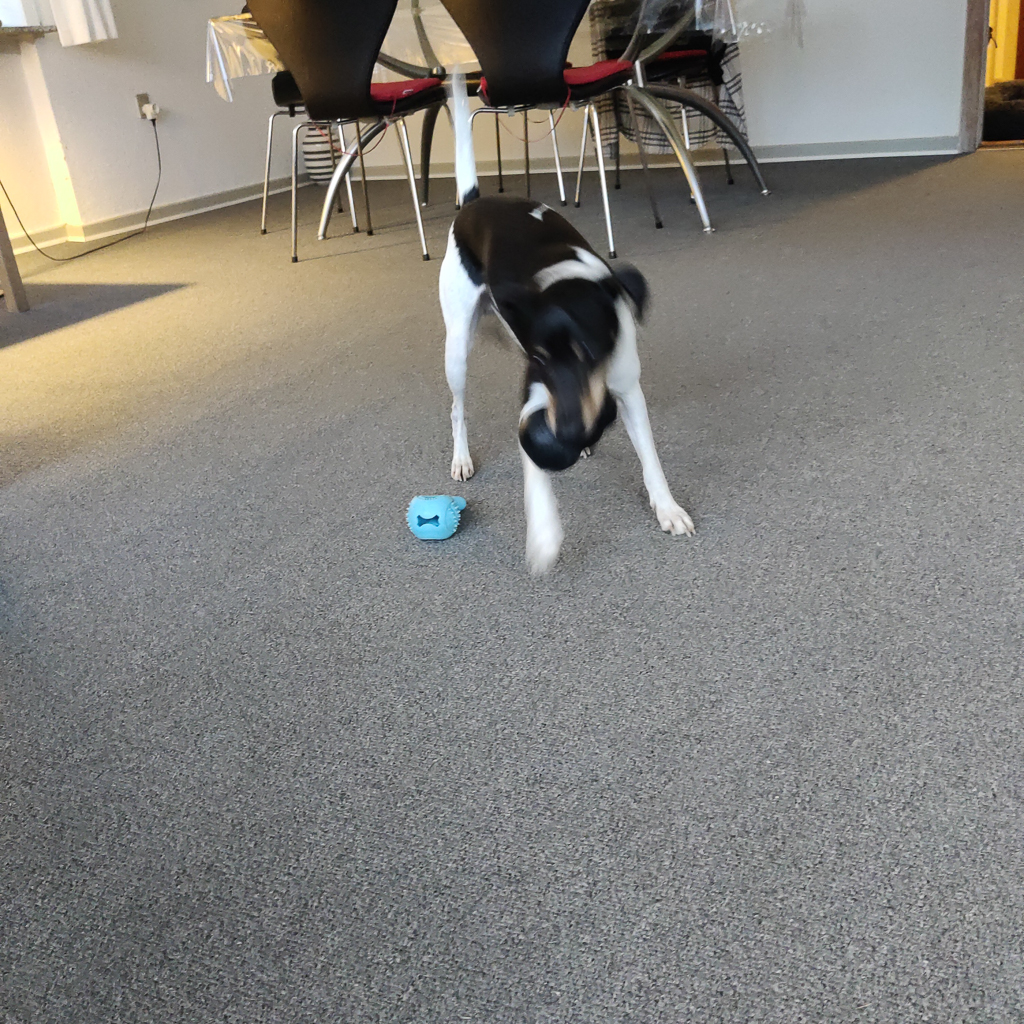Dog: (416, 41, 722, 595)
